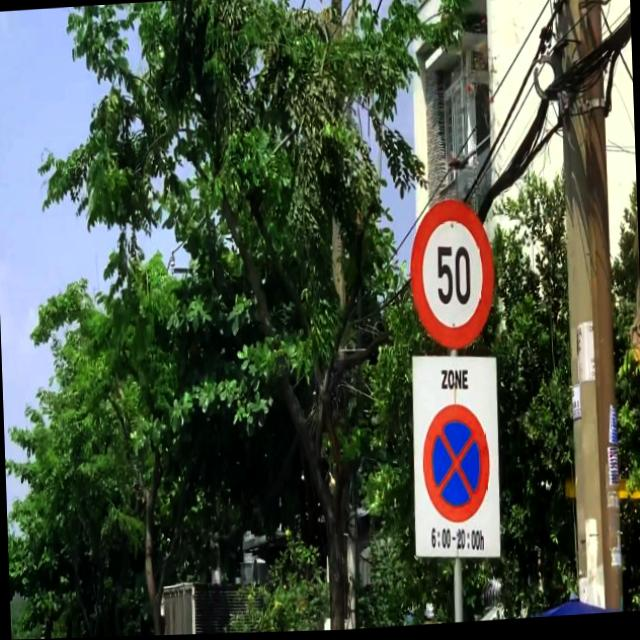Cam dung xe va do xe: (419, 404, 492, 529)
Toc do toi da cho phep: (408, 198, 497, 356)
